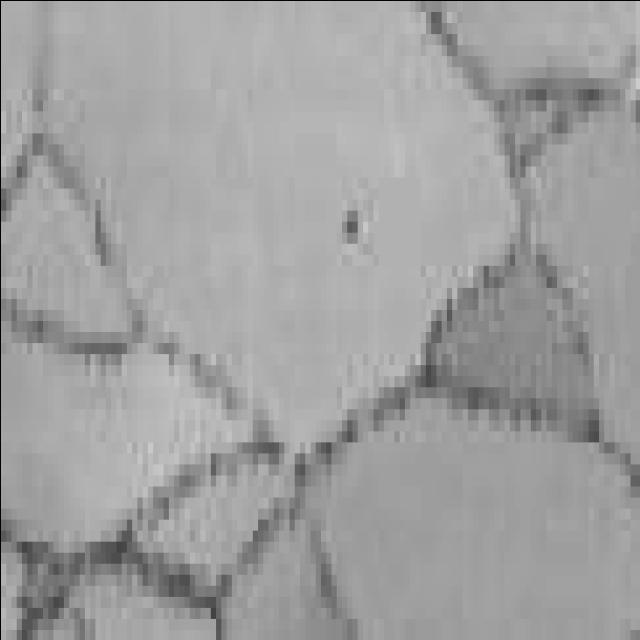good_void: (334, 175, 372, 266)
